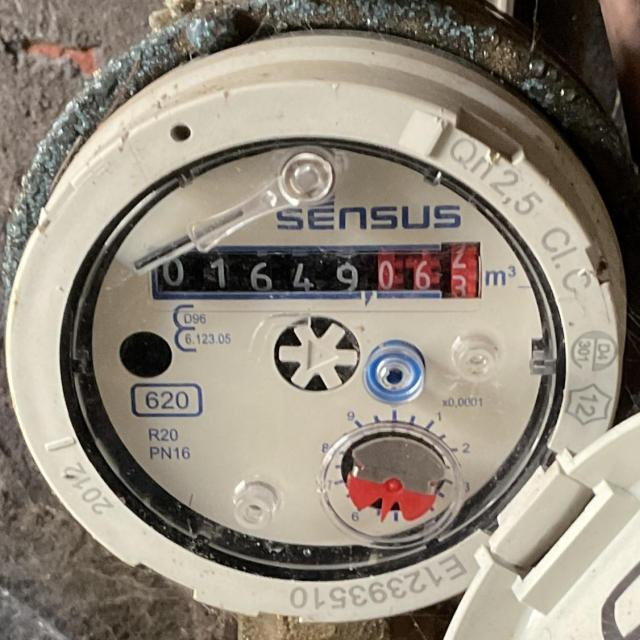gaz_meter: (67, 142, 550, 551)
indication: (153, 246, 482, 297)
